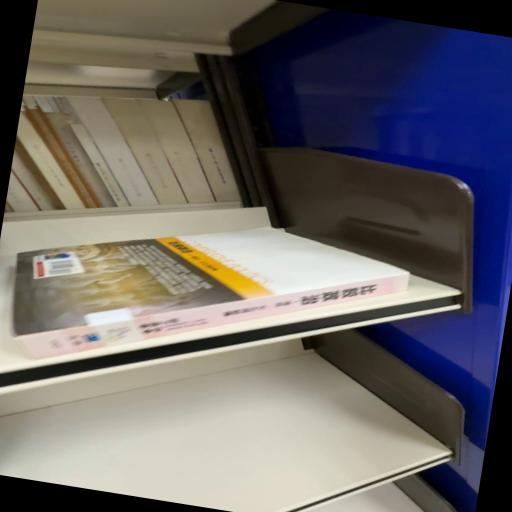flat: (11, 227, 409, 358)
